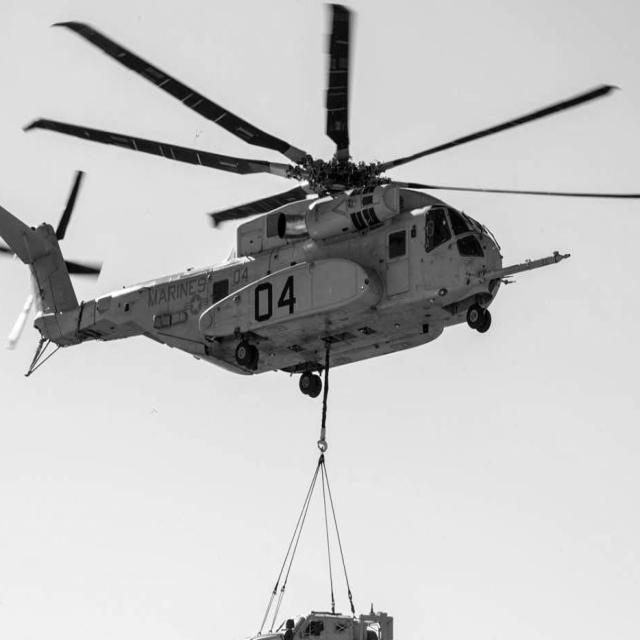helicopter: (1, 1, 640, 405)
